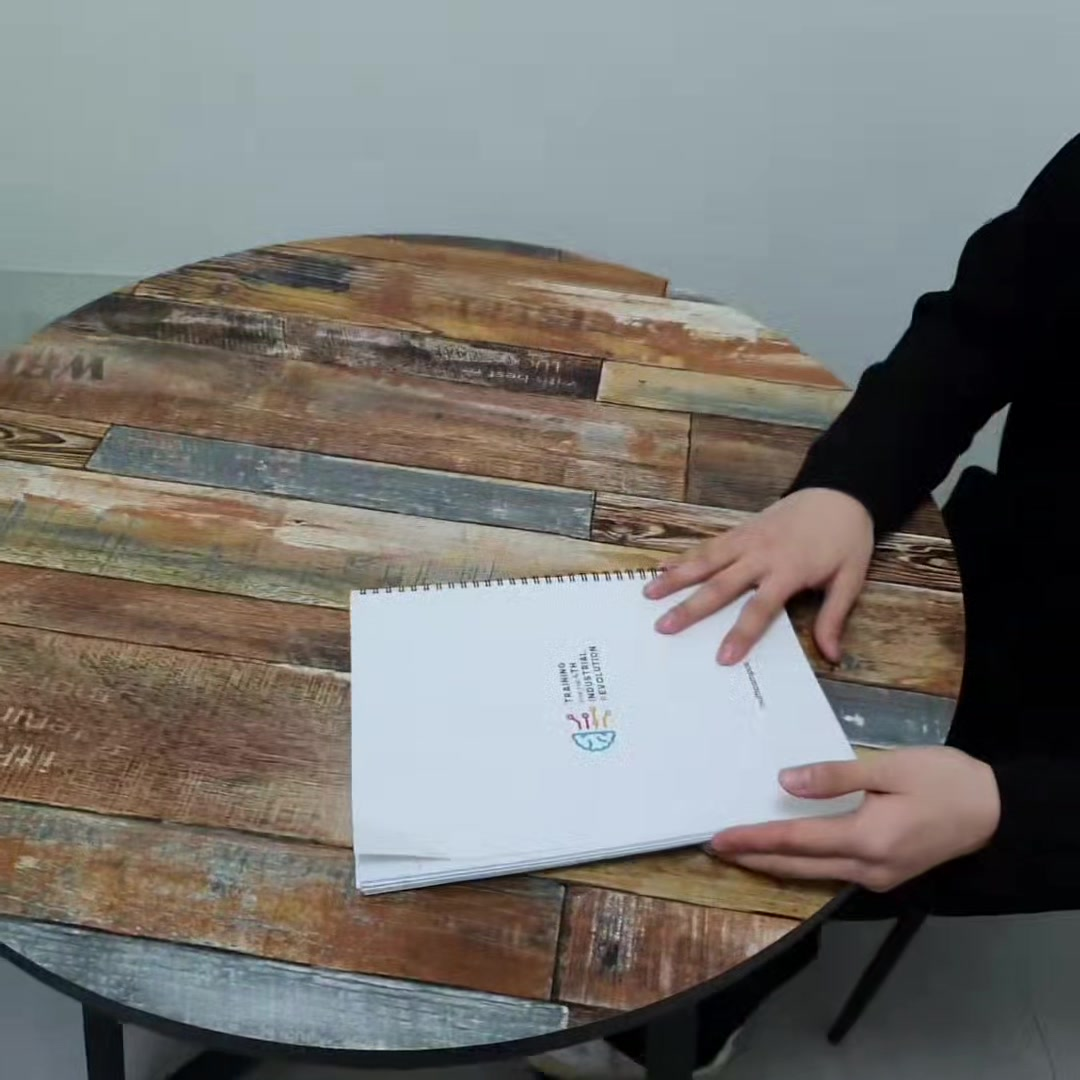book: (338, 540, 888, 900)
